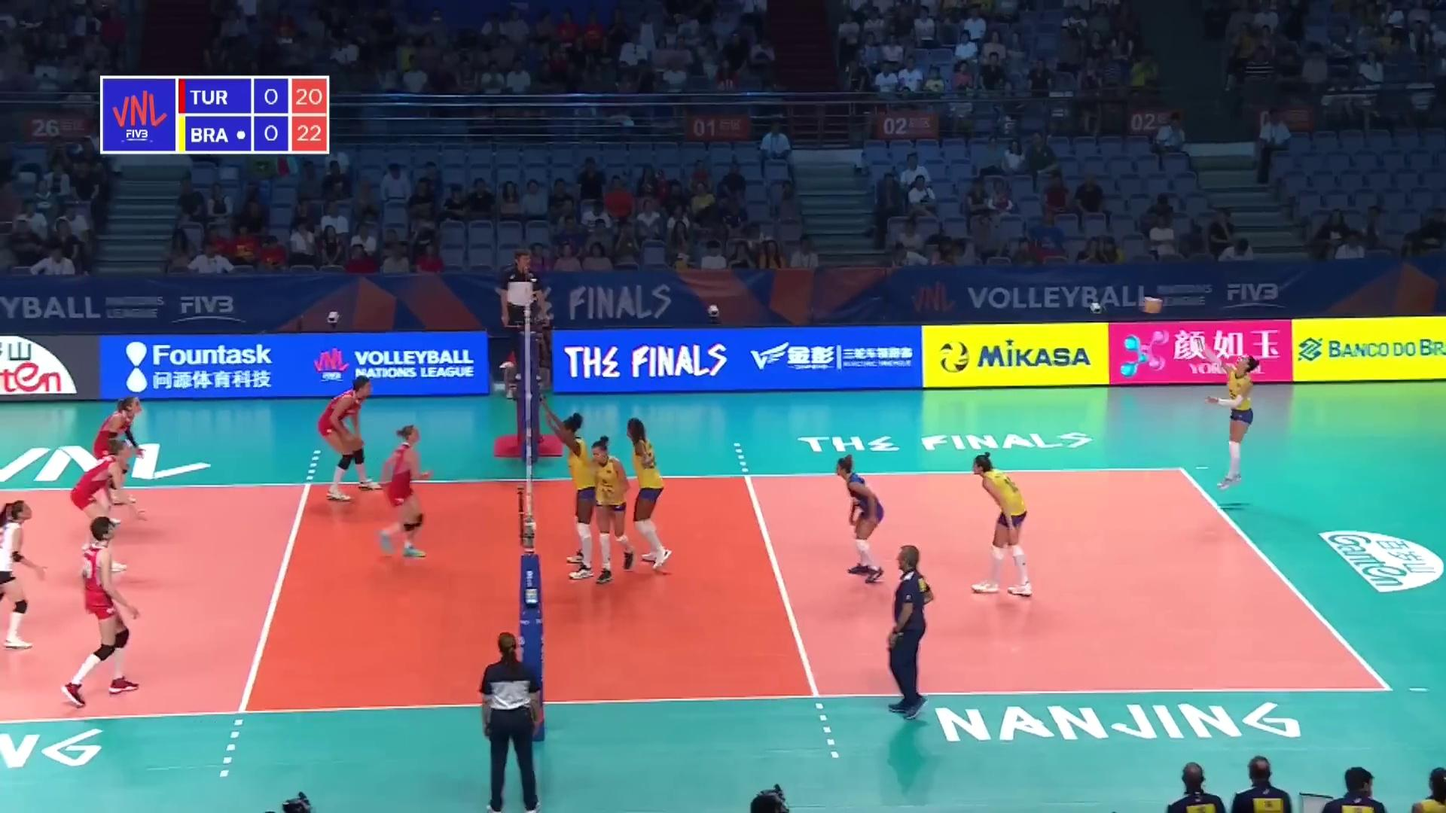player: (63, 517, 141, 706), (966, 459, 1031, 598), (70, 440, 137, 574), (377, 425, 437, 560), (1207, 356, 1267, 491), (314, 378, 378, 503), (826, 454, 889, 578), (551, 412, 597, 581), (624, 420, 672, 572), (92, 395, 154, 507), (588, 439, 633, 587), (0, 500, 42, 649)
refree: (473, 630, 546, 813), (497, 250, 548, 381)
